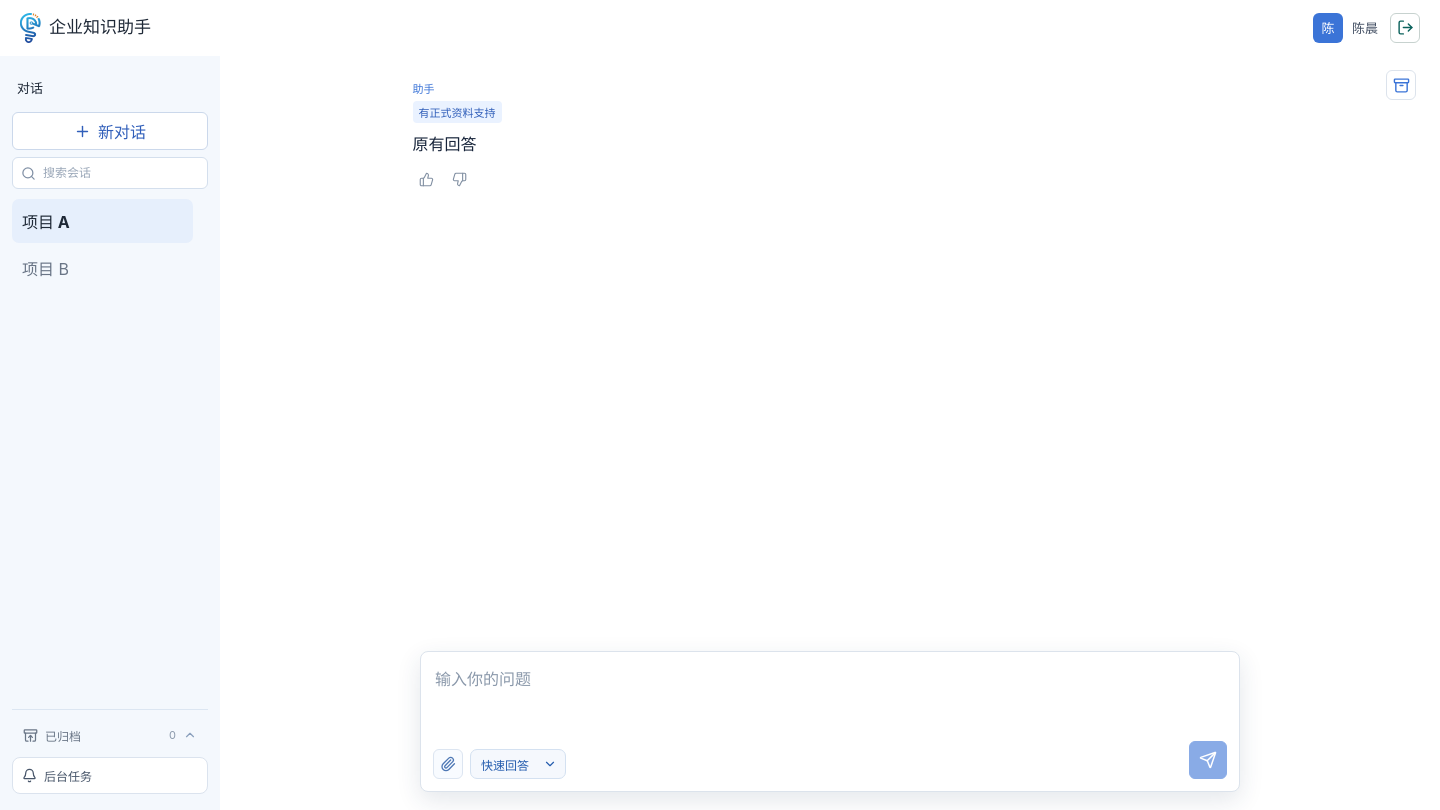
ChatPage product workspace › filters historical conversations from the sidebar search
This screenshot has width=1440, height=810.
Check: the text "原有回答" is shown, box [412,134,476,154]
Check: the button "项目 A" is shown, box [12,199,193,243]
Type "项目 B" into the search field named "搜索历史会话" at (121, 173), box [43,166,199,180]
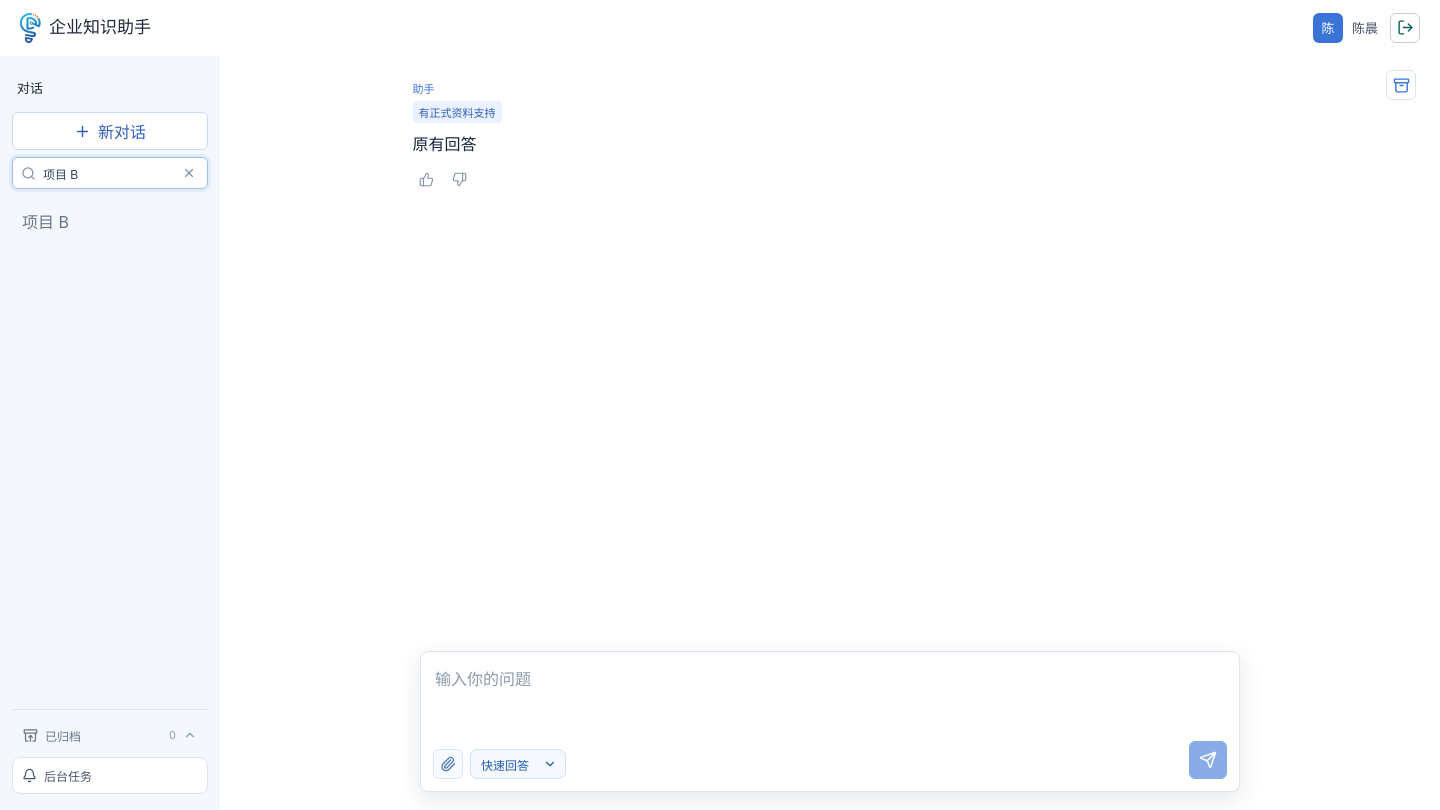
Check: the button "项目 B" is shown, box [12,199,193,243]
Check: the button "项目 A" is gone
Click the button named "清除会话搜索" at (189, 173), box [179,163,199,183]
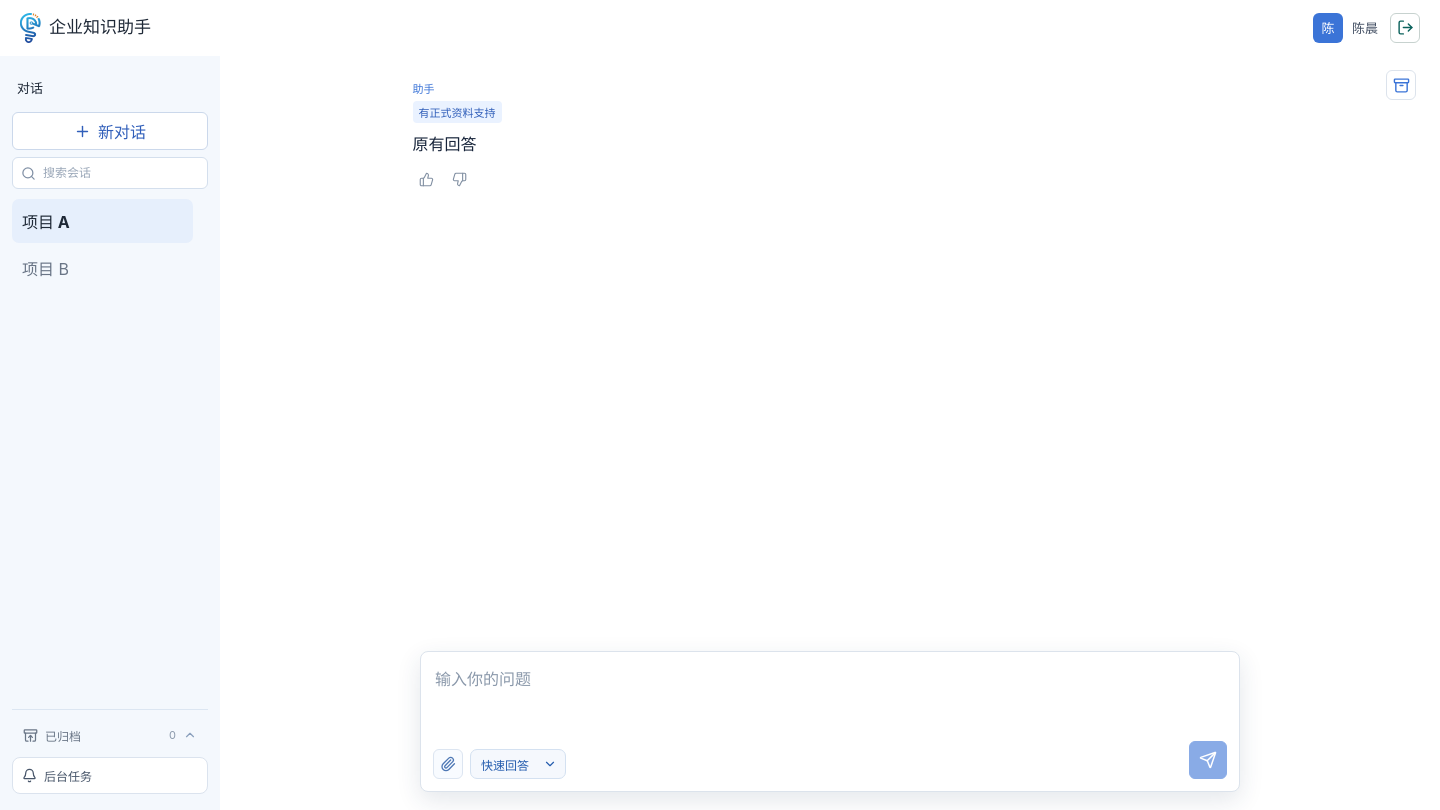
Check: the button "项目 A" is shown, box [12,199,193,243]
